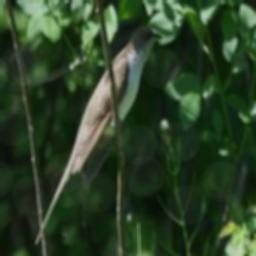Cuckoo: (33, 23, 161, 247)
